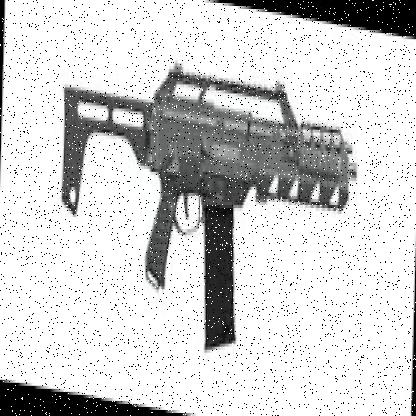rifle: (56, 42, 360, 388)
